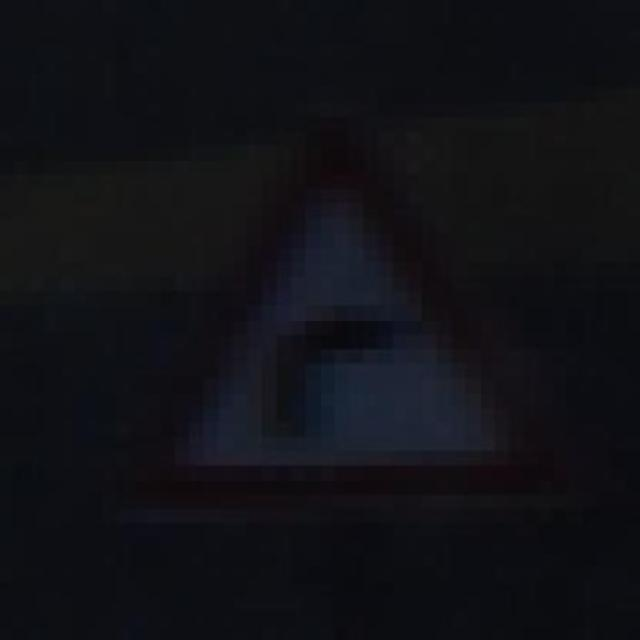Dangerous Rright Curve Ahead: (131, 72, 552, 568)
